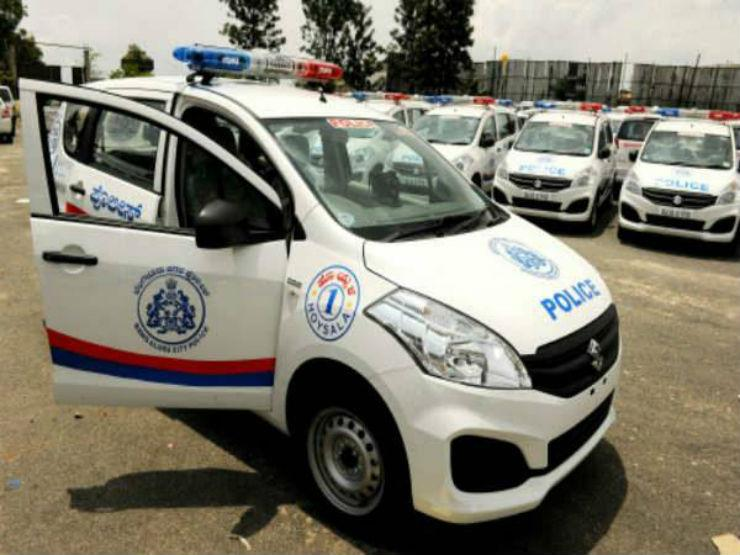Emergency-Vehicles: (41, 53, 619, 523)
